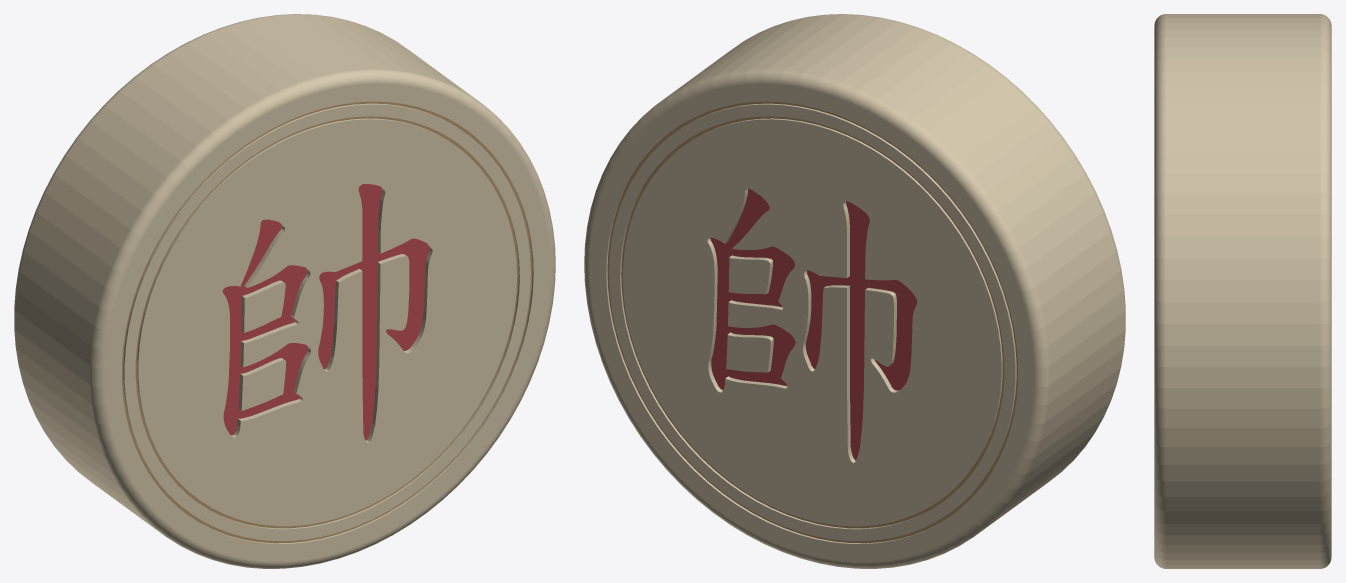
3 views of the same model, side by side, from view 1: azimuth 30°, elevation 25°; view 2: azimuth 150°, elevation 25°; view 3: azimuth 270°, elevation 25° (orthographic). The views are drawn at different scales.
Visible parts, largest first — view 1: wood, engraved_letters, engraved_border; view 2: wood, engraved_letters, engraved_border; view 3: wood.
Part boxes in pixels (x1=…): wood: x1=14, y1=14, x2=555, y2=568; engraved_letters: x1=222, y1=184, x2=429, y2=440; engraved_border: x1=122, y1=101, x2=532, y2=543; wood: x1=584, y1=14, x2=1125, y2=568; engraved_letters: x1=710, y1=188, x2=916, y2=460; engraved_border: x1=607, y1=101, x2=1017, y2=543; wood: x1=1154, y1=14, x2=1331, y2=568.
Bounding box in the file's own units: 0.047 × 0.047 × 0.015.
